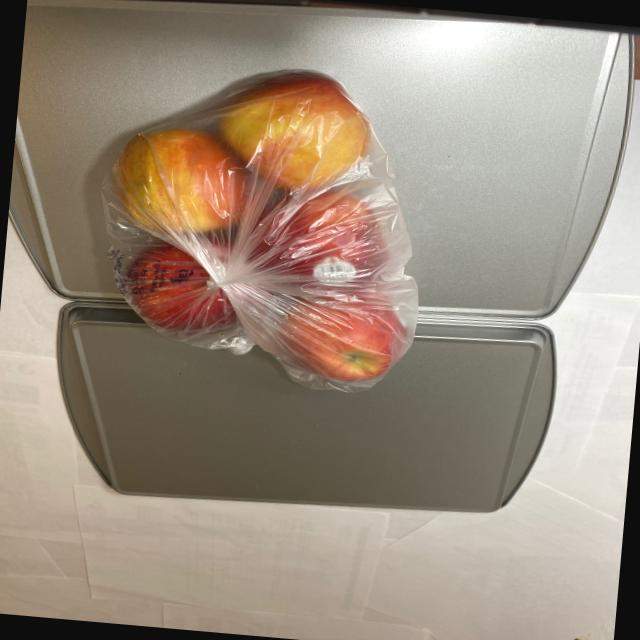apple: (92, 54, 440, 389)
